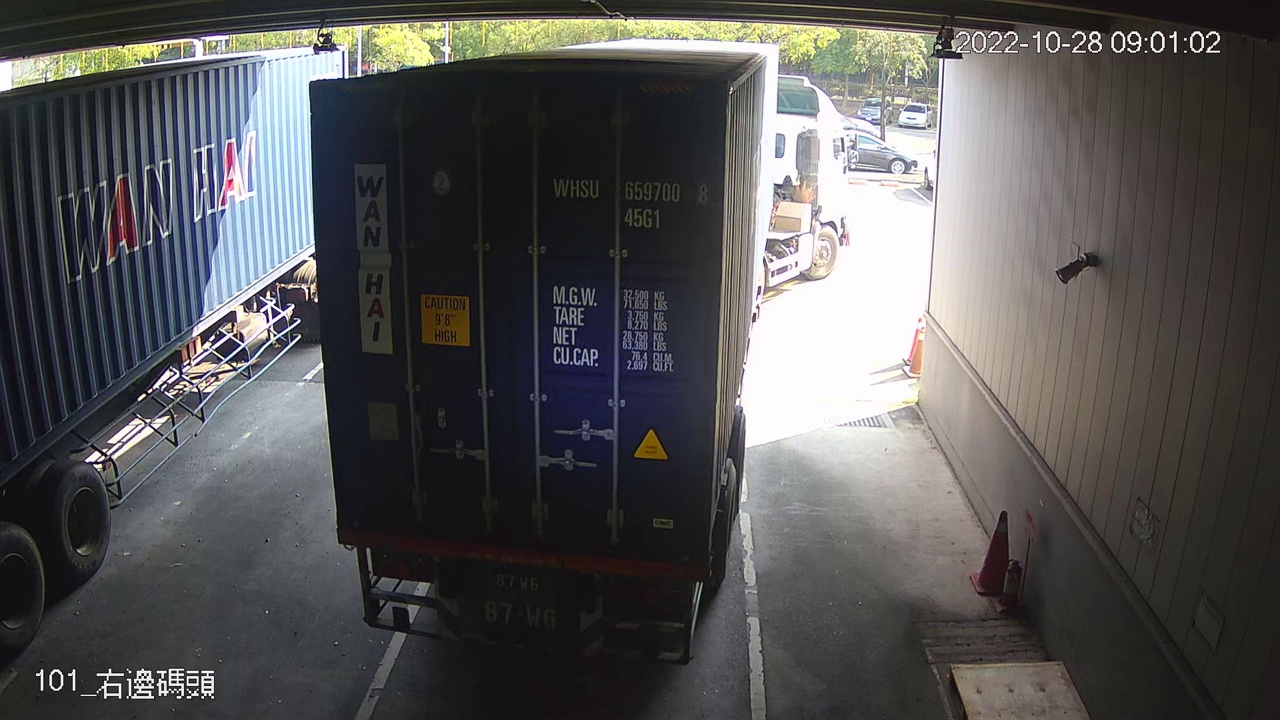container: (544, 167, 716, 234)
